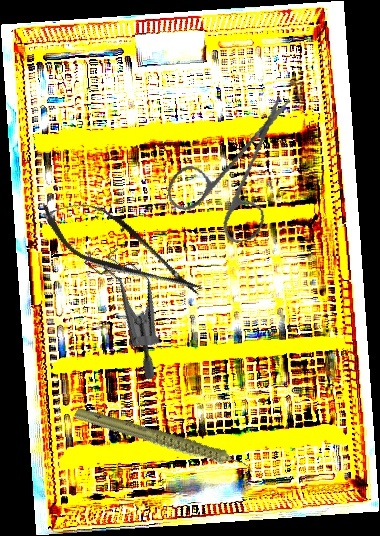Handpiece: (72, 372, 256, 513)
Iris Scissors: (153, 94, 317, 255)
Micro Scissor: (29, 182, 215, 316)
Speculum: (49, 233, 203, 382)
